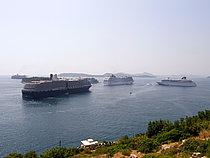Ship: (21, 73, 95, 102), (102, 72, 137, 89)
